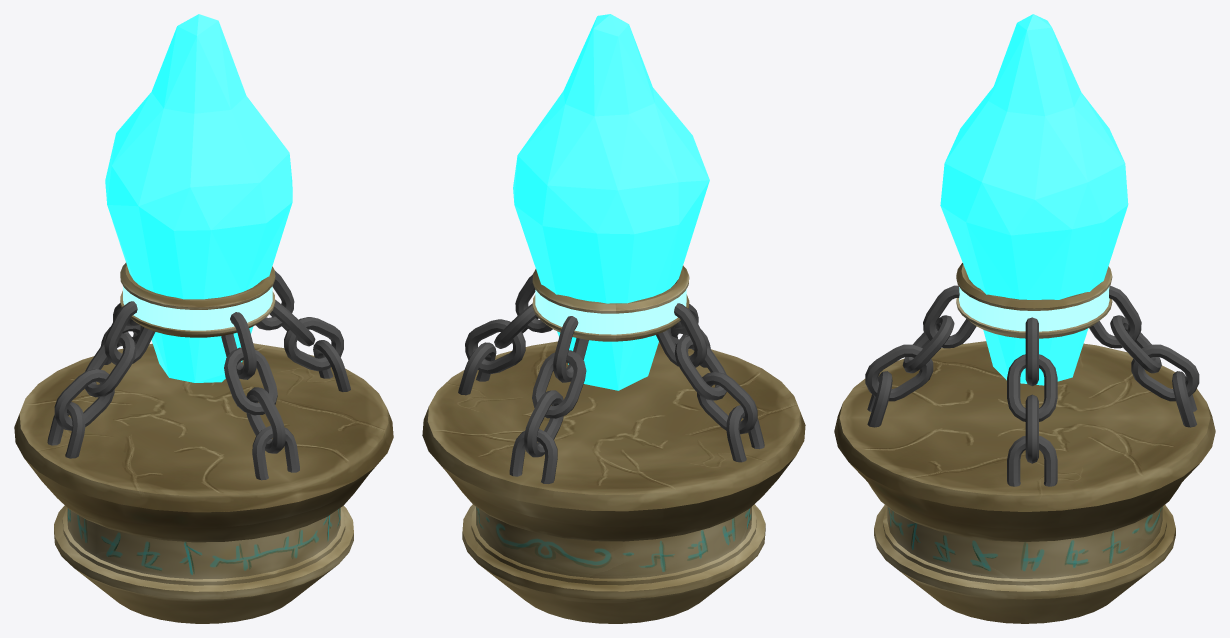
The model's file is cristal.fbx.
3 renders of one model, left to right at view 1: azimuth 30°, elevation 25°; view 2: azimuth 150°, elevation 25°; view 3: azimuth 270°, elevation 25°, orthographic.
Parts seen in each view (by area): view 1: base, cristal, aro brilhante; view 2: base, cristal, aro brilhante; view 3: base, cristal, aro brilhante.
Boxes of the visible parts, x1,y1,x2,y2 form: base: (14, 263, 393, 623); cristal: (105, 14, 292, 382); aro brilhante: (123, 286, 272, 330); base: (422, 265, 805, 623); cristal: (513, 14, 709, 390); aro brilhante: (535, 289, 686, 334); base: (834, 263, 1215, 623); cristal: (940, 14, 1128, 385); aro brilhante: (959, 286, 1109, 331).
Size of the model in its own units: 52.34 by 85.98 by 52.34.
